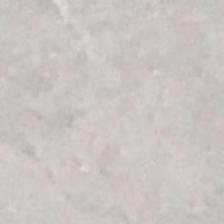Non_Crack: (10, 37, 211, 190)
